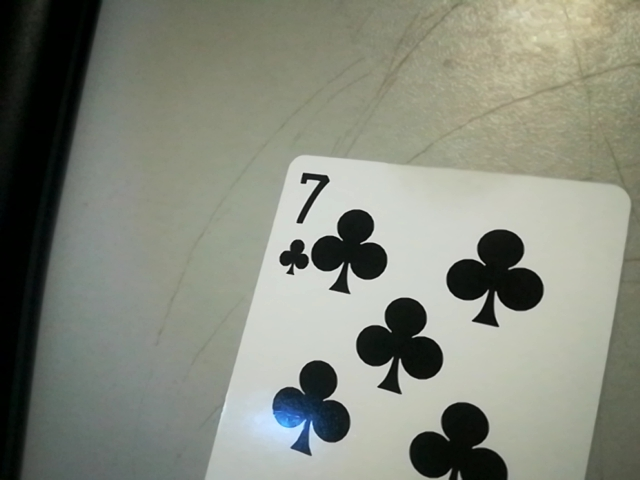mh 7: (272, 164, 326, 280)
